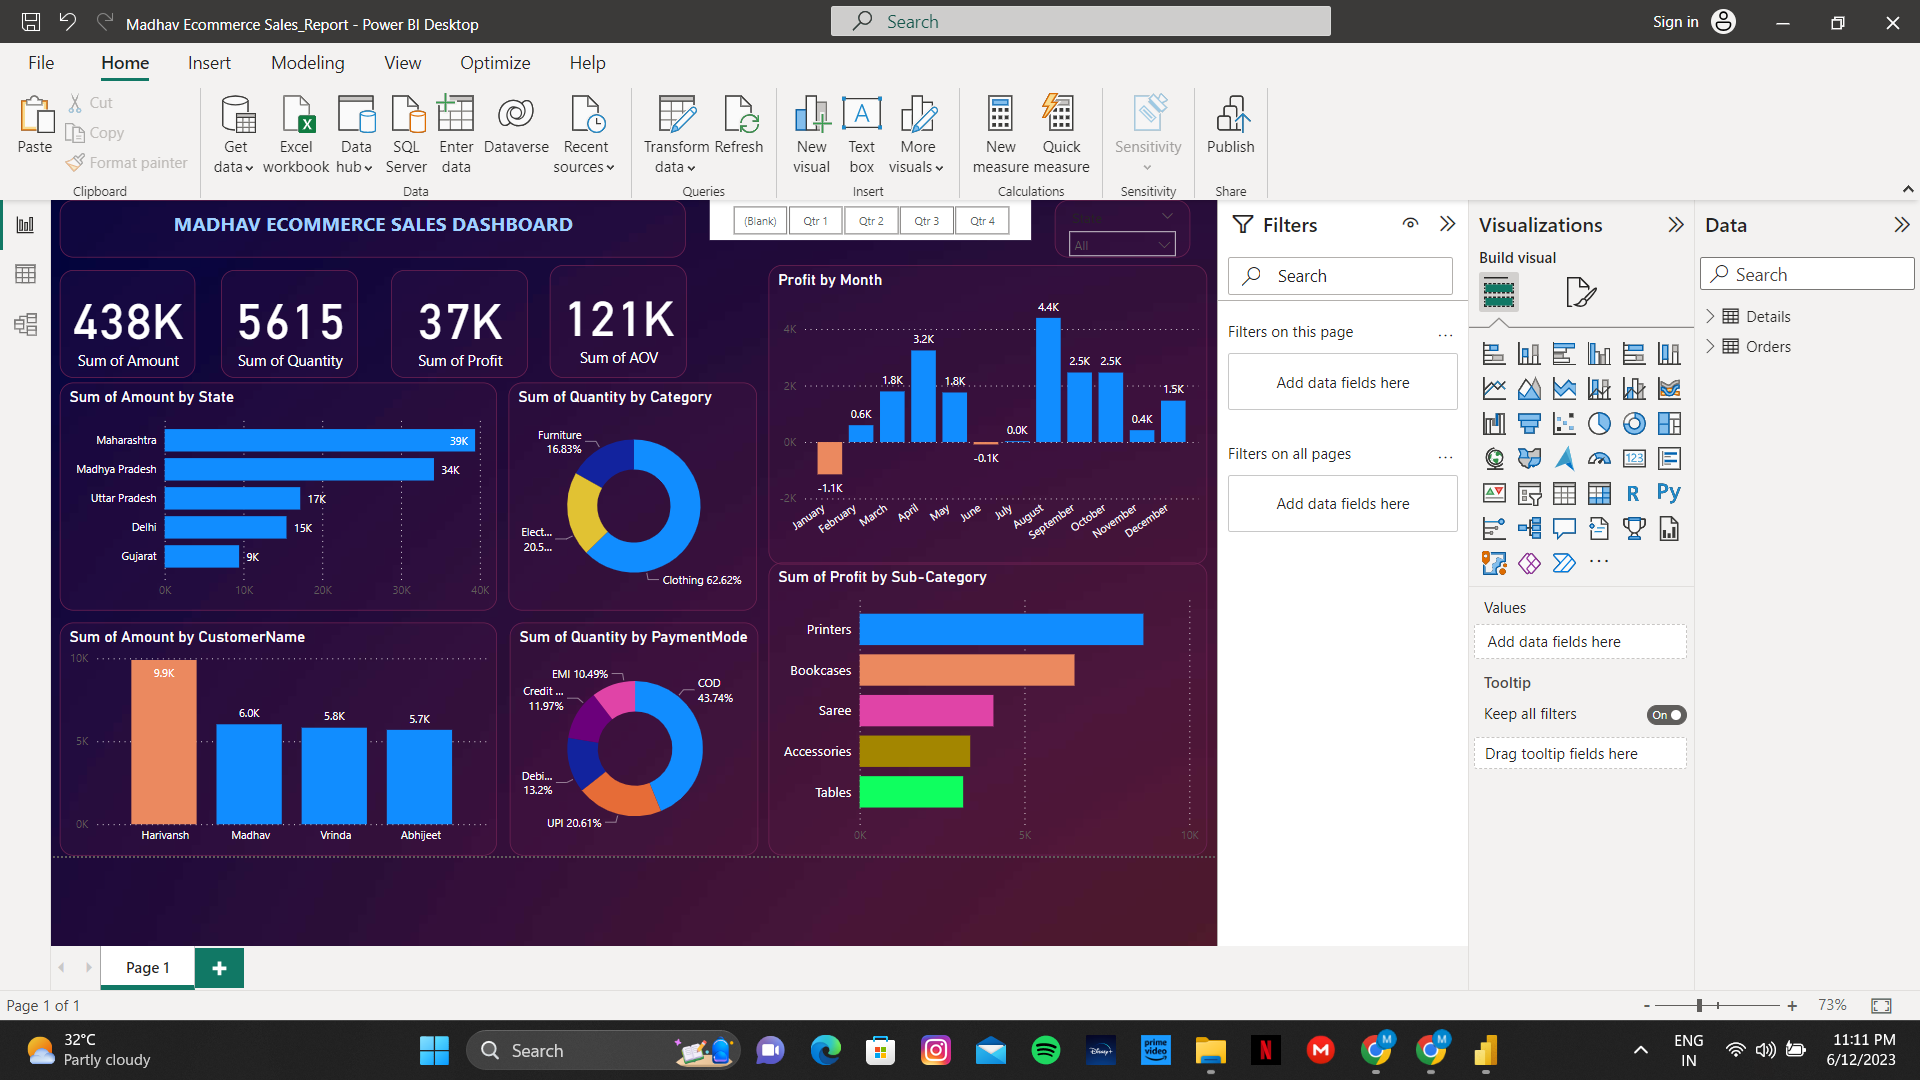

Layout of this report page (visuals, bound fields, positions):
{"tool":"powerbi","page":{"name":"Page 1","canvas":[1280,720],"ordinal":0},"visuals":[{"type":"textbox","box":[10,0,687.1,62.9],"z":0},{"type":"columnChart","title":"Profit by Month","fields":{"Y":["Sum(Details.Profit)"],"Category":["Orders.Order Date.Variation.Date Hierarchy.Month"]},"box":[787.1,71.4,481.4,328.6],"z":1000},{"type":"barChart","fields":{"Category":["Details.Sub-Category"],"Y":["Sum(Details.Profit)"]},"box":[787.1,398.6,481.4,321.4],"z":2000},{"type":"donutChart","fields":{"Category":["Details.Category"],"Y":["Sum(Details.Quantity)"]},"box":[502.9,200,272.9,250],"z":3000},{"type":"donutChart","fields":{"Y":["Sum(Details.Quantity)"],"Category":["Details.PaymentMode"]},"box":[504.3,464.3,272.9,255.7],"z":4000},{"type":"card","fields":{"Values":["Sum(Details.Amount)"]},"box":[10,77.1,148.6,118.6],"z":5000},{"type":"card","fields":{"Values":["Sum(Details.Quantity)"]},"box":[187.1,77.1,150,118.6],"z":6000},{"type":"card","fields":{"Values":["Sum(Details.Profit)"]},"box":[372.9,77.1,150,118.6],"z":7000},{"type":"card","fields":{"Values":["Sum(Details.AOV)"]},"box":[547.1,71.4,150,124.3],"z":8000},{"type":"barChart","fields":{"Category":["Orders.State"],"Y":["Sum(Details.Amount)"]},"box":[10,200,480,250],"z":9000},{"type":"columnChart","fields":{"Category":["Orders.CustomerName"],"Y":["Sum(Details.Amount)"]},"box":[10,464.3,480,255.7],"z":10000},{"type":"slicer","fields":{"Values":["Orders.Order Date.Variation.Date Hierarchy.Quarter"]},"box":[722.9,0,352.9,44.3],"z":11000},{"type":"slicer","fields":{"Values":["Orders.State"]},"box":[1101.4,0,148.6,62.9],"z":11001}]}

Visuals, with their boxes on the page's 1280x720 design canvas (x1, y1, x2, y2). These are canvas units, not pixel positions in the 1920x1080 screenshot, which may show the page scaled, cropped or inside an application window:
textbox: BBox(10, 0, 697, 63)
"Profit by Month" columnChart: BBox(787, 71, 1268, 400)
barChart - Details.Sub-Category x Sum(Details.Profit): BBox(787, 399, 1268, 720)
donutChart - Details.Category x Sum(Details.Quantity): BBox(503, 200, 776, 450)
donutChart - Sum(Details.Quantity) x Details.PaymentMode: BBox(504, 464, 777, 720)
card - Sum(Details.Amount): BBox(10, 77, 159, 196)
card - Sum(Details.Quantity): BBox(187, 77, 337, 196)
card - Sum(Details.Profit): BBox(373, 77, 523, 196)
card - Sum(Details.AOV): BBox(547, 71, 697, 196)
barChart - Orders.State x Sum(Details.Amount): BBox(10, 200, 490, 450)
columnChart - Orders.CustomerName x Sum(Details.Amount): BBox(10, 464, 490, 720)
slicer - Orders.Order Date.Variation.Date Hierarchy.Quarter: BBox(723, 0, 1076, 44)
slicer - Orders.State: BBox(1101, 0, 1250, 63)
